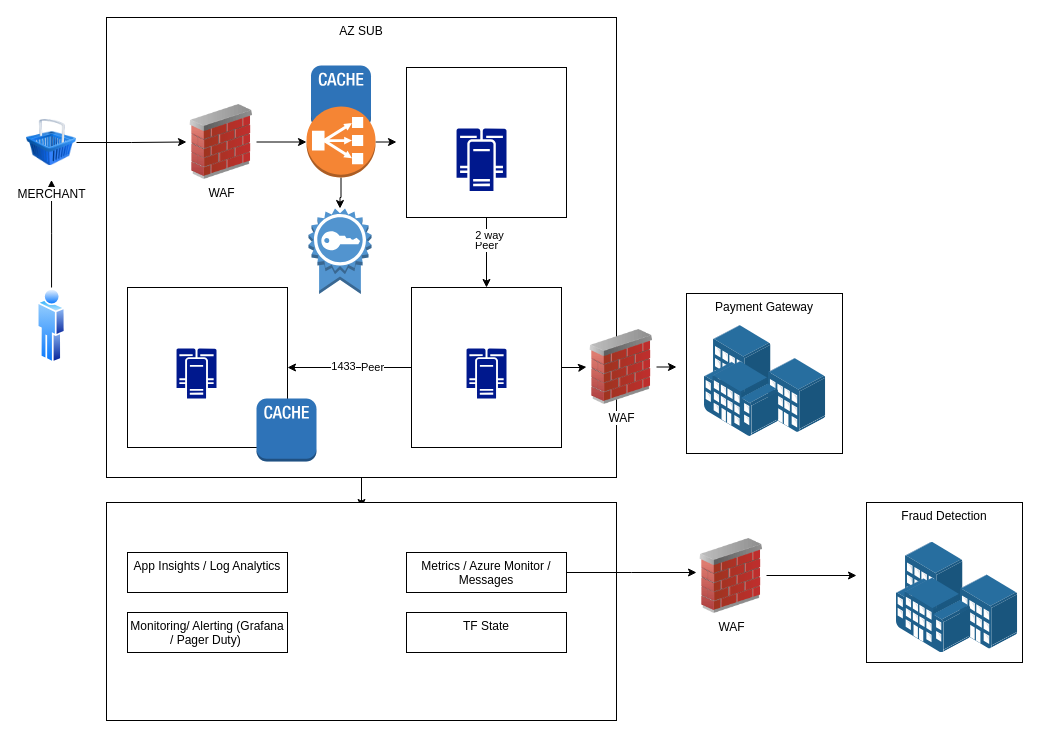
Image size: 1040x738. Some labels were removed from this diagram. Each missing label, with the box of its shape:
Application / AKS: (410, 286, 562, 448)
Backend DB Cluster: (126, 286, 288, 448)
BALANCER: (306, 106, 376, 178)
BUYER: (37, 287, 65, 364)
Frontend Avail Set / Cluster: (406, 66, 566, 218)
Monitoring / Logging SUB: (106, 502, 616, 720)
